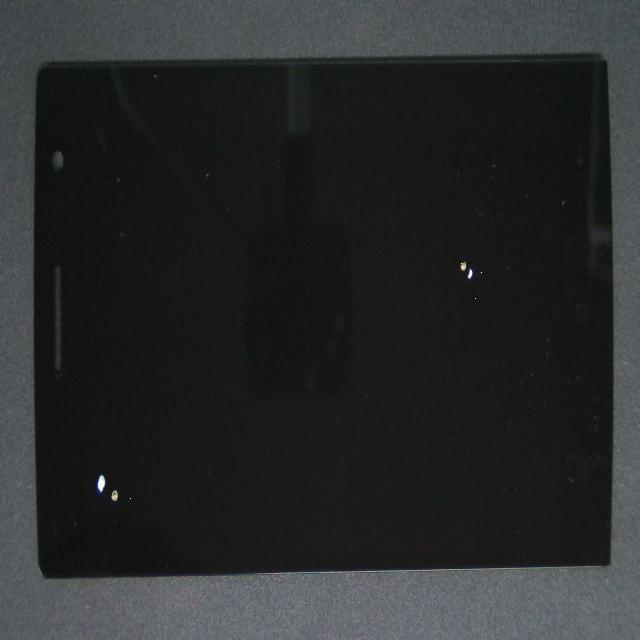stain: (220, 117, 640, 417), (36, 240, 144, 640)
